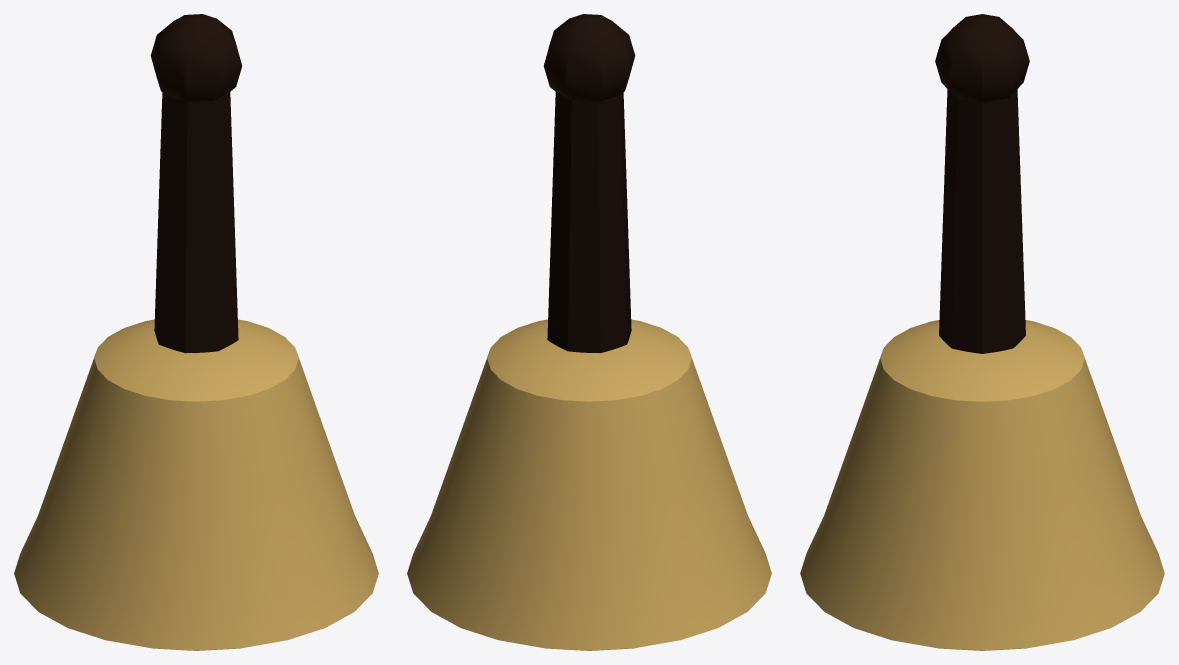
File: school-hand-bell.glb
3 renders of one model, left to right at view 1: azimuth 30°, elevation 25°; view 2: azimuth 150°, elevation 25°; view 3: azimuth 270°, elevation 25°, orthographic.
Parts seen in each view (by area): view 1: bell__brass, handle__wood; view 2: bell__brass, handle__wood; view 3: bell__brass, handle__wood.
Boxes of the visible parts, left/top/right/bottom form: bell__brass: left=14, top=319, right=378, bottom=650; handle__wood: left=150, top=14, right=242, bottom=353; bell__brass: left=407, top=319, right=771, bottom=650; handle__wood: left=543, top=14, right=635, bottom=353; bell__brass: left=800, top=320, right=1164, bottom=650; handle__wood: left=935, top=14, right=1029, bottom=353.
Bounding box in the file's own units: 0.1 × 0.17 × 0.1.
